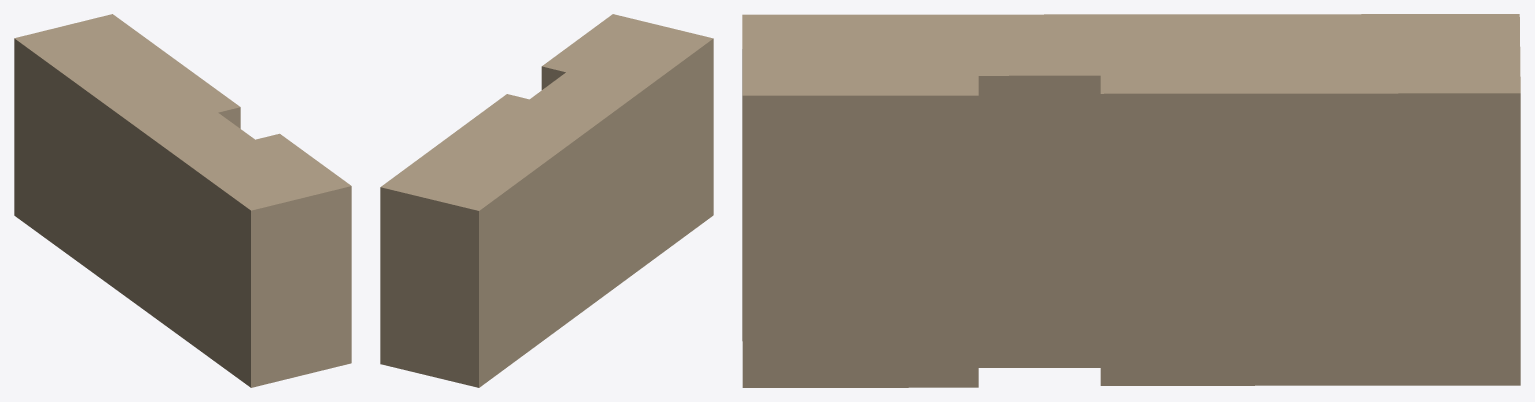
The model's file is bld_97718518.dae.
3 views of the same model, side by side, from view 1: azimuth 30°, elevation 25°; view 2: azimuth 150°, elevation 25°; view 3: azimuth 270°, elevation 25° (orthographic). The views are drawn at different scales.
Parts seen in each view (by area): view 1: bld_97718518; view 2: bld_97718518; view 3: bld_97718518.
Part boxes in pixels (left/top/right/bottom): bld_97718518: left=14, top=14, right=351, bottom=387; bld_97718518: left=380, top=14, right=713, bottom=387; bld_97718518: left=742, top=14, right=1520, bottom=387.
Bounding box in the file's own units: 4.8 × 19.32 × 8.
